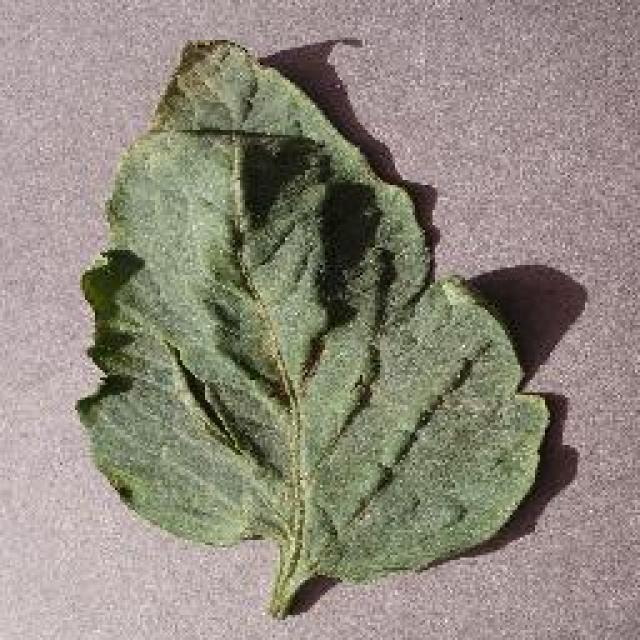Tomato Septoria spot leaf: (72, 38, 550, 582)
